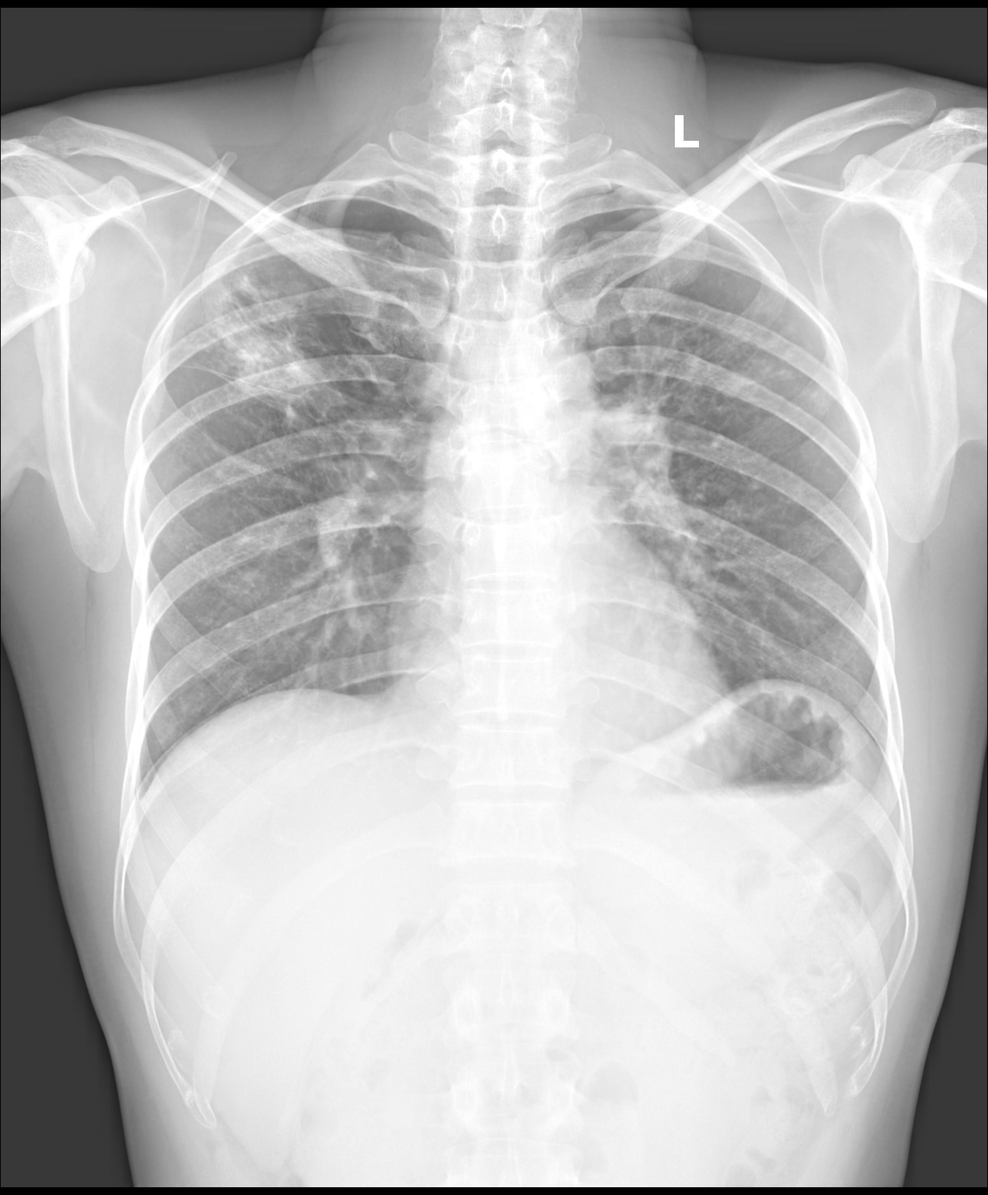Pulmonary fibrosis: (193, 274, 342, 417), (642, 304, 809, 416)
